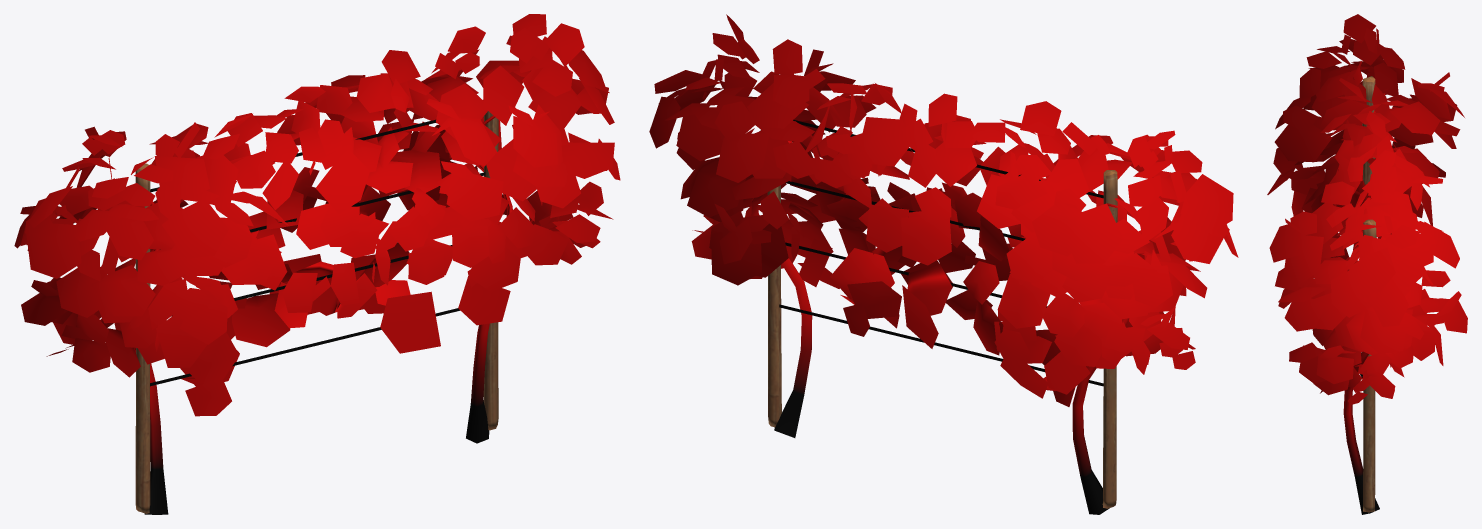
The model's file is SM_Farm_GrapevineGrown_03.fbx.
3 views of the same model, side by side, from view 1: azimuth 30°, elevation 25°; view 2: azimuth 150°, elevation 25°; view 3: azimuth 270°, elevation 25° (orthographic). The views are drawn at different scales.
Parts seen in each view (by area): view 1: SM_Farm_GrapevineGrown_03_LOD0; view 2: SM_Farm_GrapevineGrown_03_LOD0; view 3: SM_Farm_GrapevineGrown_03_LOD0.
Part boxes in pixels (box(x1,y1,x2,y2)): SM_Farm_GrapevineGrown_03_LOD0: box(14, 14, 620, 514); SM_Farm_GrapevineGrown_03_LOD0: box(649, 14, 1238, 514); SM_Farm_GrapevineGrown_03_LOD0: box(1267, 14, 1467, 514).
Size of the model in its own units: 255 by 170 by 89.49.
